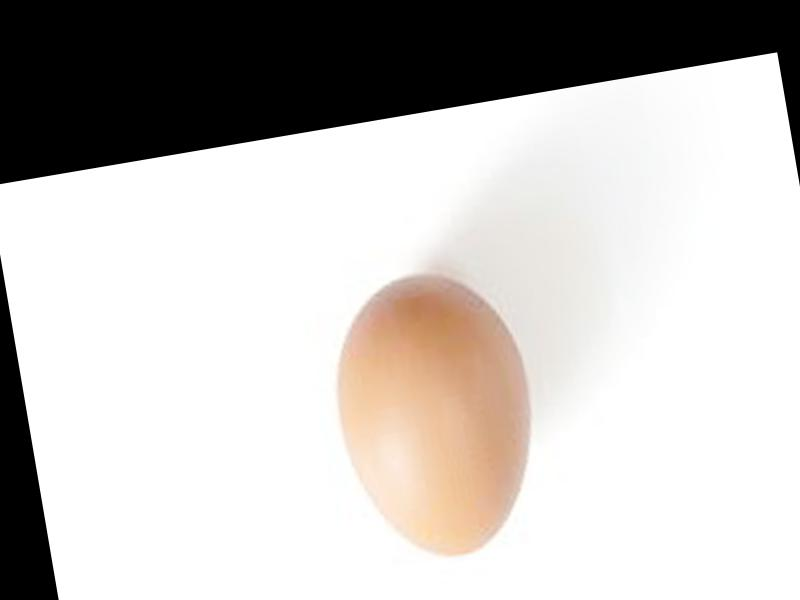Eggs: (321, 260, 552, 573)
